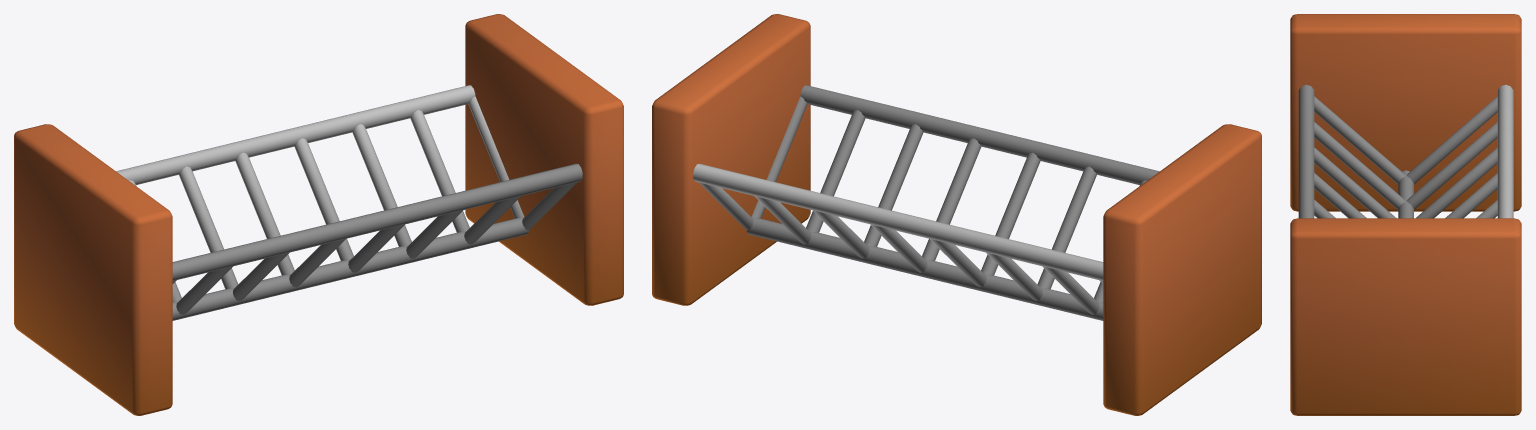
Rendered from Dish Rack_2.fbx.
3 renders of one model, left to right at view 1: azimuth 30°, elevation 25°; view 2: azimuth 150°, elevation 25°; view 3: azimuth 270°, elevation 25°, orthographic. The views are drawn at different scales.
Visible parts, largest first — view 1: Dish Rack_2; view 2: Dish Rack_2; view 3: Dish Rack_2.
Part boxes in pixels (left/top/right/bottom): Dish Rack_2: left=14, top=14, right=623, bottom=415; Dish Rack_2: left=652, top=14, right=1261, bottom=415; Dish Rack_2: left=1290, top=14, right=1521, bottom=415.
Size of the model in its own units: 0.701 by 0.2707 by 0.3086.
Materials: 1 (1 with a texture image).
